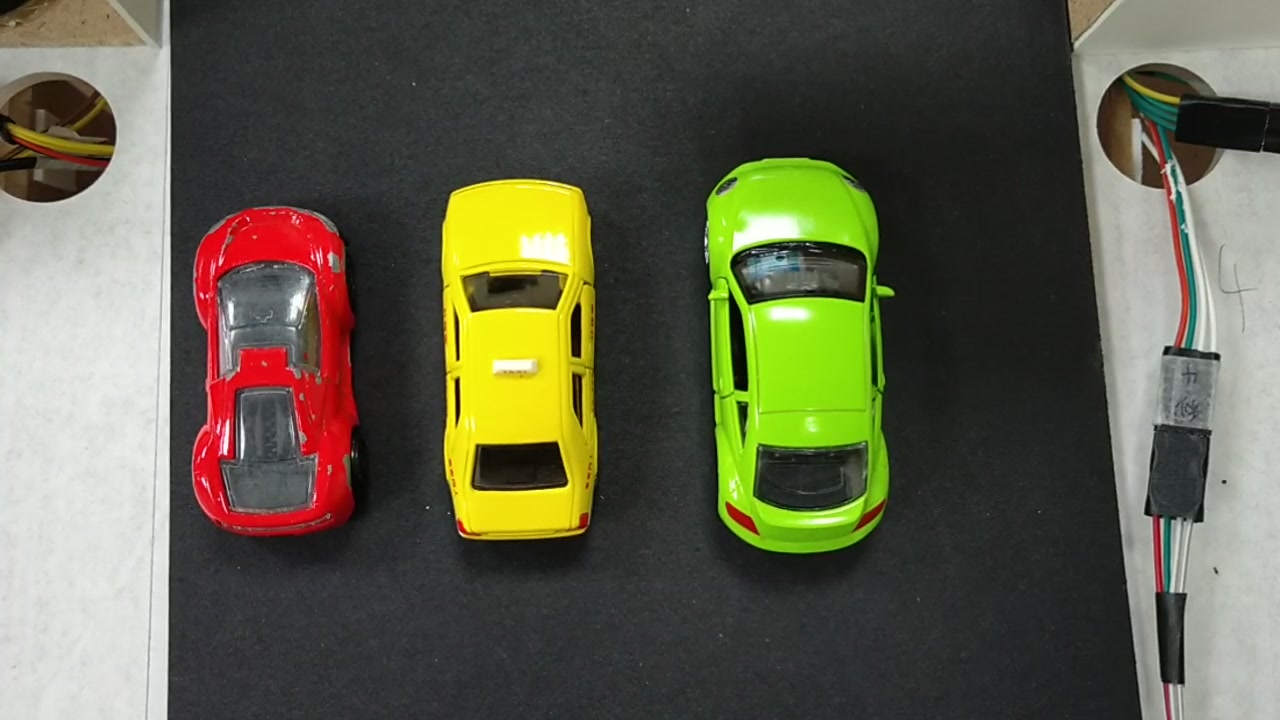car: (708, 166, 895, 553), (441, 187, 601, 545), (193, 205, 362, 540)
